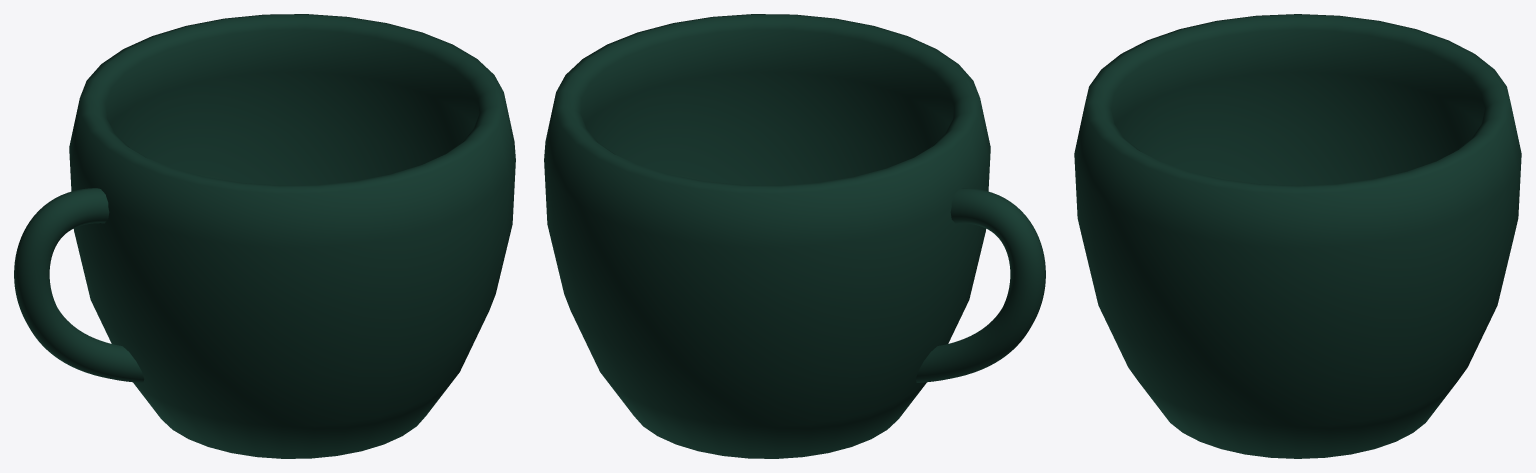
The model's file is Tasse.fbx.
3 views of the same model, side by side, from view 1: azimuth 30°, elevation 25°; view 2: azimuth 150°, elevation 25°; view 3: azimuth 270°, elevation 25° (orthographic).
Parts seen in each view (by area): view 1: Tasse; view 2: Tasse; view 3: Tasse.
Part boxes in pixels (box(x1,y1,x2,y2)): Tasse: box(14, 14, 515, 458); Tasse: box(544, 14, 1045, 458); Tasse: box(1074, 14, 1521, 458).
Size of the model in its own units: 307 by 187 by 253.
